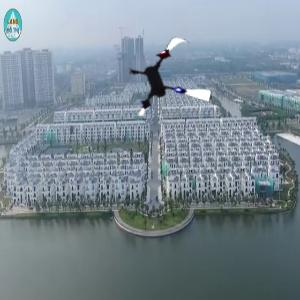drone: (123, 35, 219, 131)
